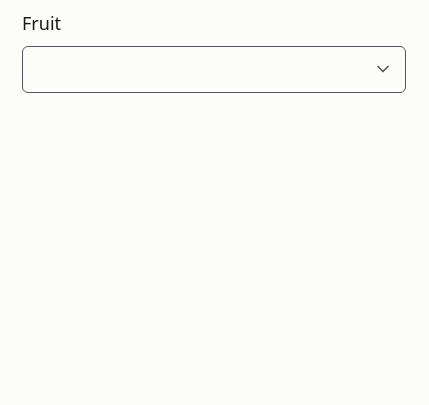
Test case: multiple selection › clears the search after selecting and keeps the option active
The image size is (429, 405).
Type "ban" into the dropdown at (192, 69), box top-left (23, 47), bottom-right (361, 92)
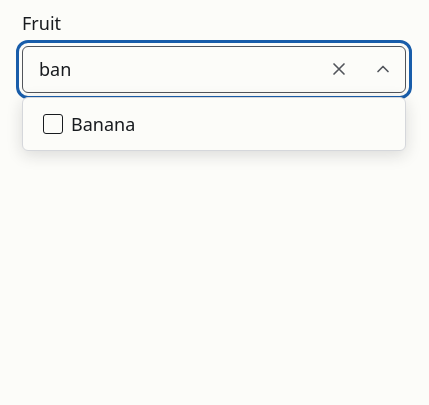
Press Arrowdown Enter
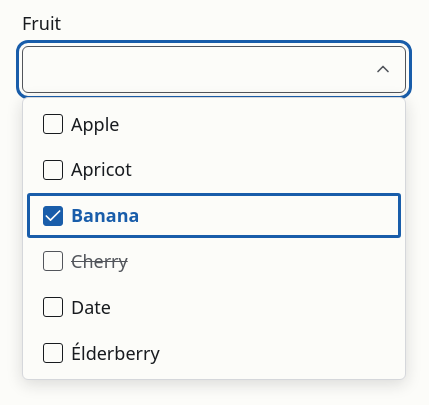
Result: the option "Banana" is shown at top-left (43, 203), bottom-right (139, 227)
Result: the dropdown is empty at top-left (23, 47), bottom-right (361, 92)
